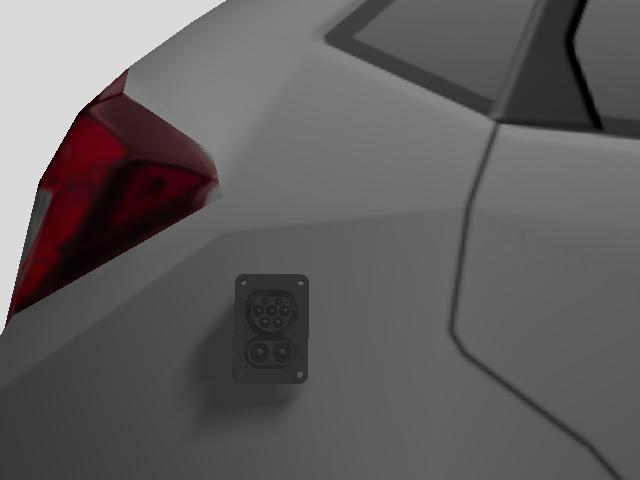EV-socket: (233, 274, 309, 384)
